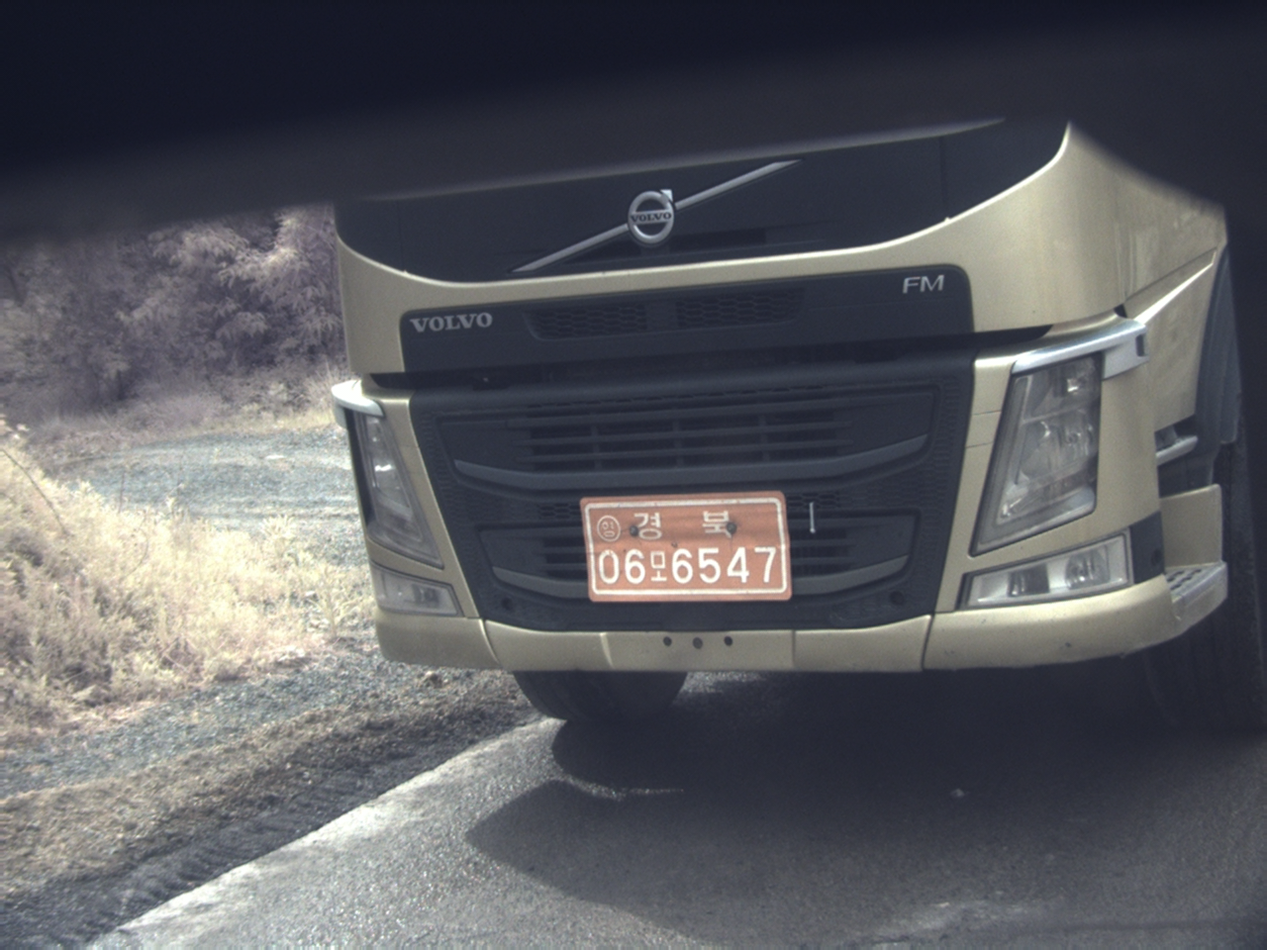license_plate: (580, 492, 791, 601)
truck: (334, 122, 1265, 727)
